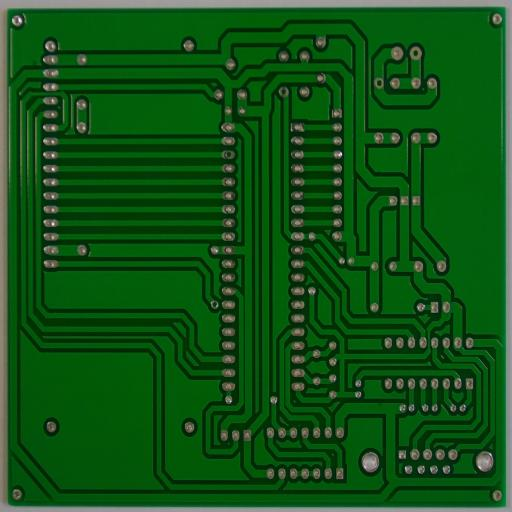missing_hole: (408, 44, 423, 61), (372, 74, 386, 92), (276, 84, 290, 98), (208, 296, 220, 312), (223, 147, 234, 161)
